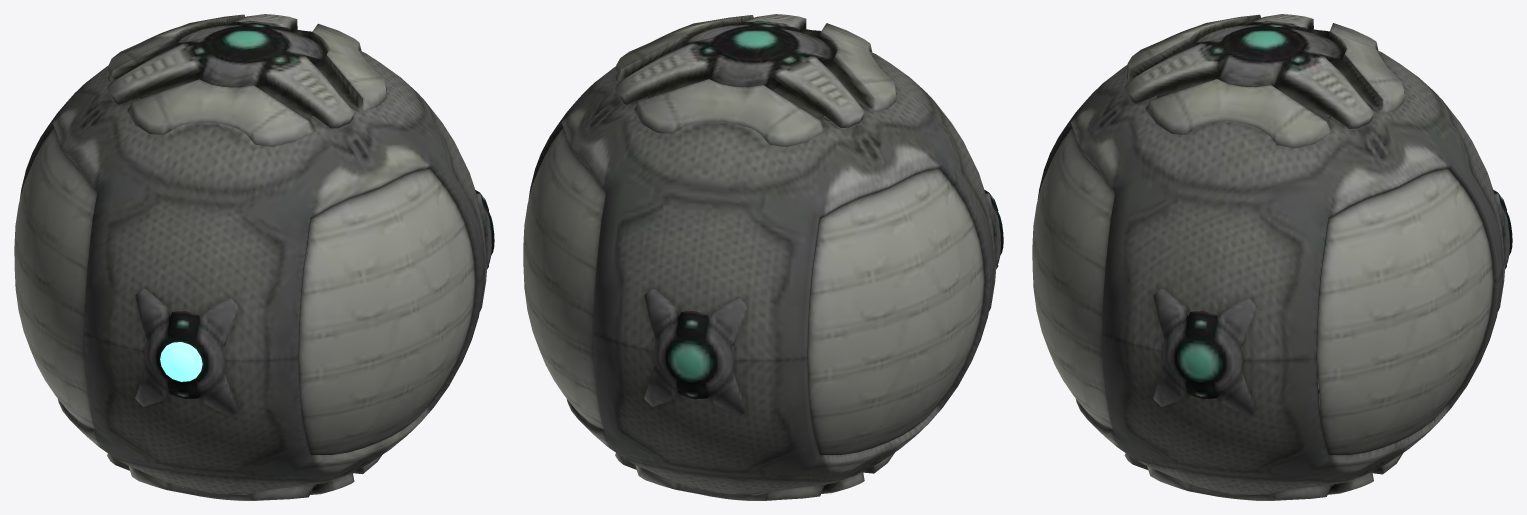
The model's file is ball.glb.
The picture shows the model from 3 angles, left to right: view 1: azimuth 30°, elevation 25°; view 2: azimuth 150°, elevation 25°; view 3: azimuth 270°, elevation 25°; orthographic projection.
Visible parts, largest first — view 1: bola_Mat.3_0, bola_Mat.4_0; view 2: bola_Mat.3_0; view 3: bola_Mat.3_0.
Part boxes in pixels (left/top/right/bottom): bola_Mat.3_0: left=14, top=14, right=494, bottom=500; bola_Mat.4_0: left=160, top=342, right=202, bottom=381; bola_Mat.3_0: left=523, top=14, right=1003, bottom=500; bola_Mat.3_0: left=1032, top=14, right=1512, bottom=500.
Size of the model in its own units: 1.92 by 1.96 by 1.91.
Materials: 2 (1 with a texture image).
